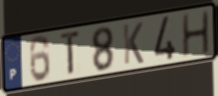4: (153, 14, 178, 63)
6: (28, 33, 52, 84)
8: (89, 25, 115, 73)
H: (181, 9, 211, 60)
K: (121, 21, 145, 67)
T: (59, 28, 83, 78)
